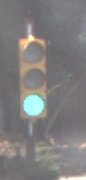Green: (13, 35, 59, 126)
